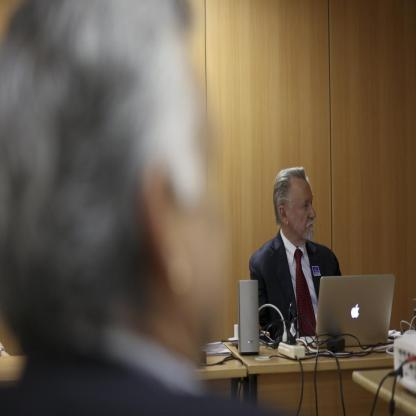board: (316, 277, 397, 355), (239, 281, 259, 355)
